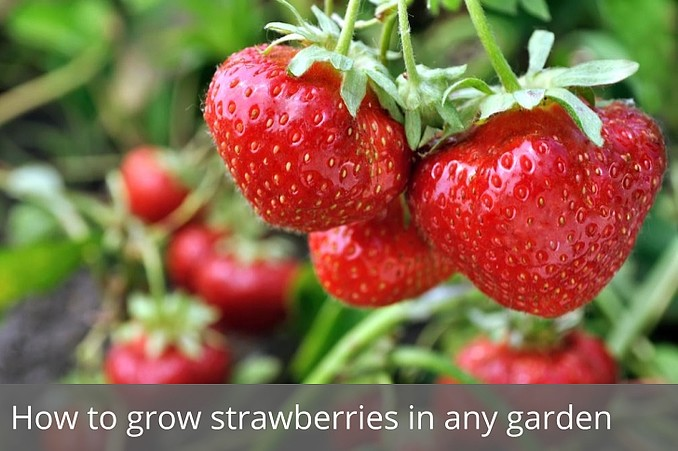ripe: (424, 82, 666, 318), (198, 38, 408, 236), (302, 168, 468, 321), (104, 297, 234, 390), (425, 328, 636, 382), (193, 233, 310, 323), (120, 140, 191, 224), (159, 229, 244, 291)
